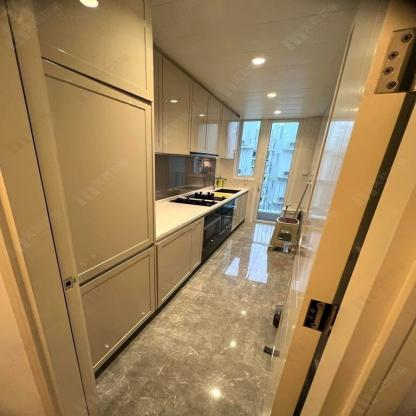Faucet: (211, 176, 226, 190)
Oven: (201, 198, 234, 264)
Stove: (161, 189, 234, 210)
